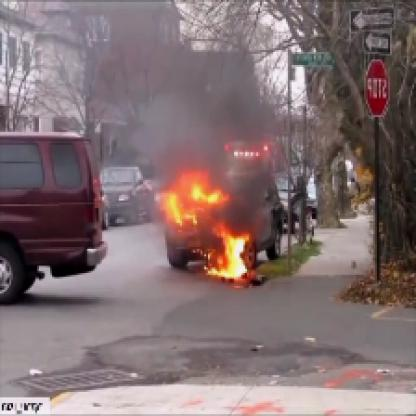Fire: (165, 160, 277, 284)
